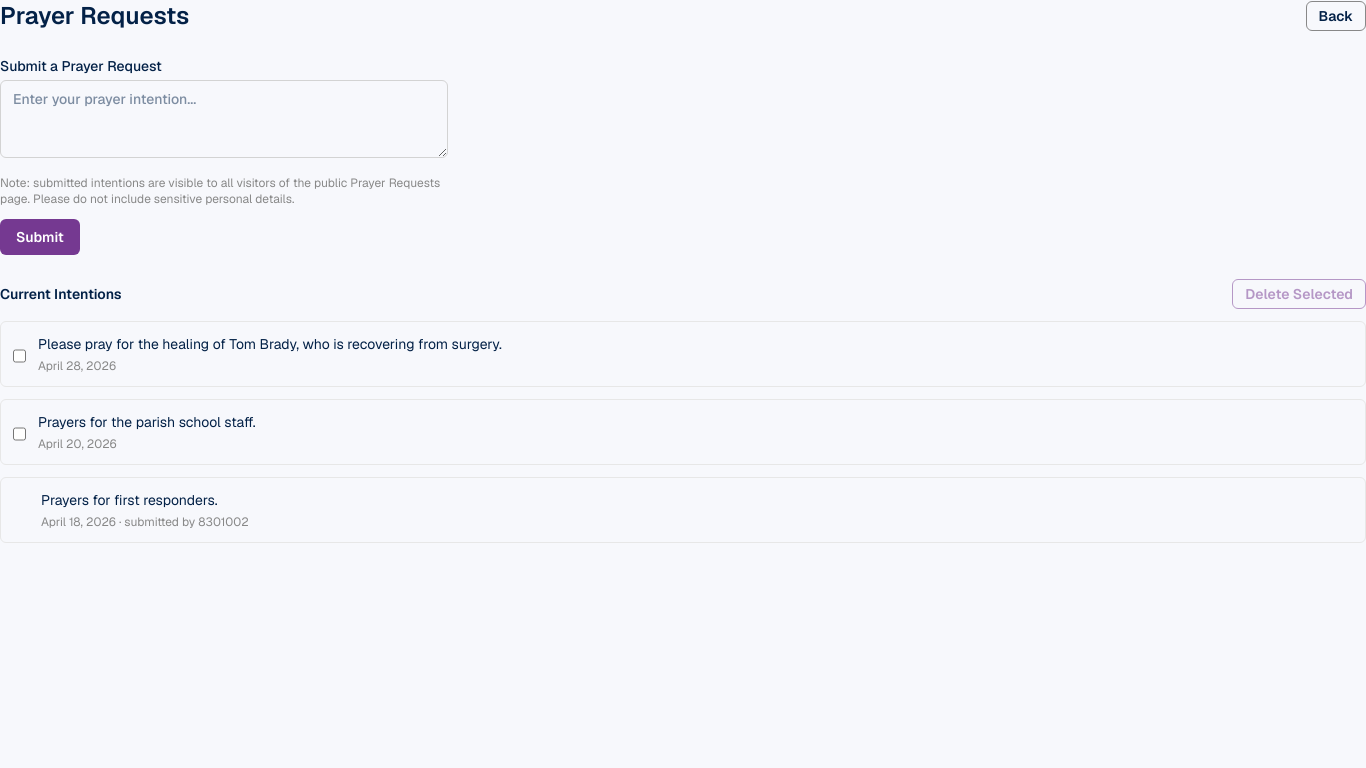
PrayerRequests › deletes selected requests on confirm and shows success modal
The image size is (1366, 768).
Expected: the text "Tom Brady" is shown, [38,335,502,353]
Click the checkbox named "Select prayer request pr-001". click: [20, 356]
box: [13,338,26,374]
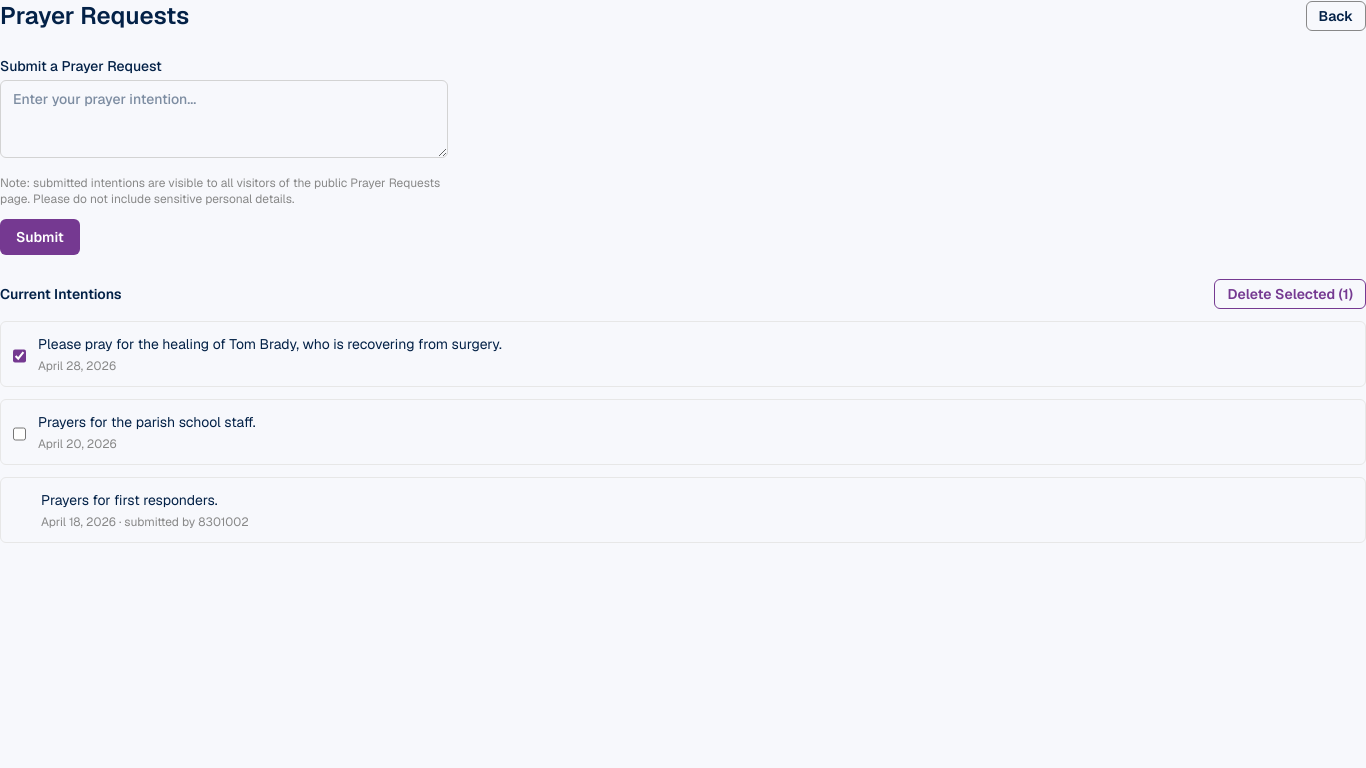
Click the checkbox named "Select prayer request pr-002". click: [20, 434]
box: [13,416,26,452]
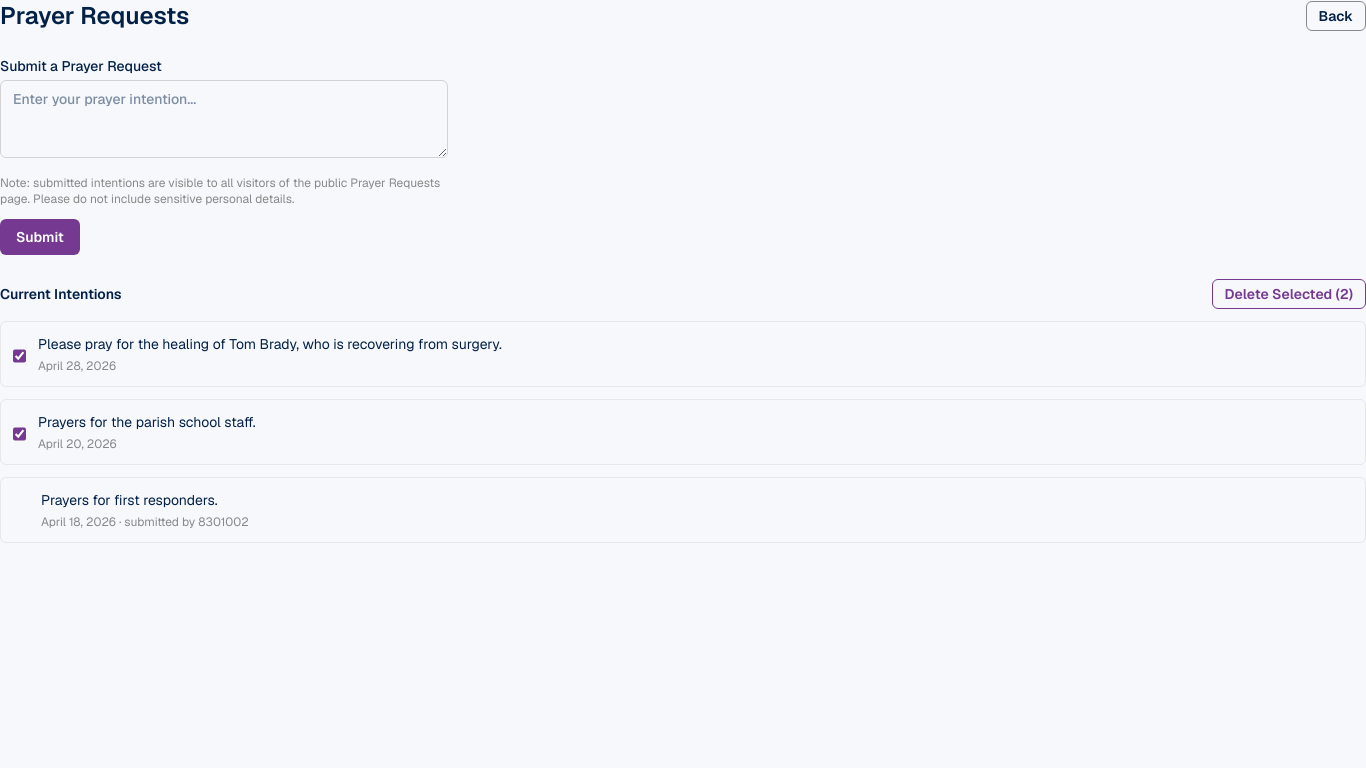
Click the button "Delete Selected (2)". click: [1289, 294]
box: [1212,279,1365,309]
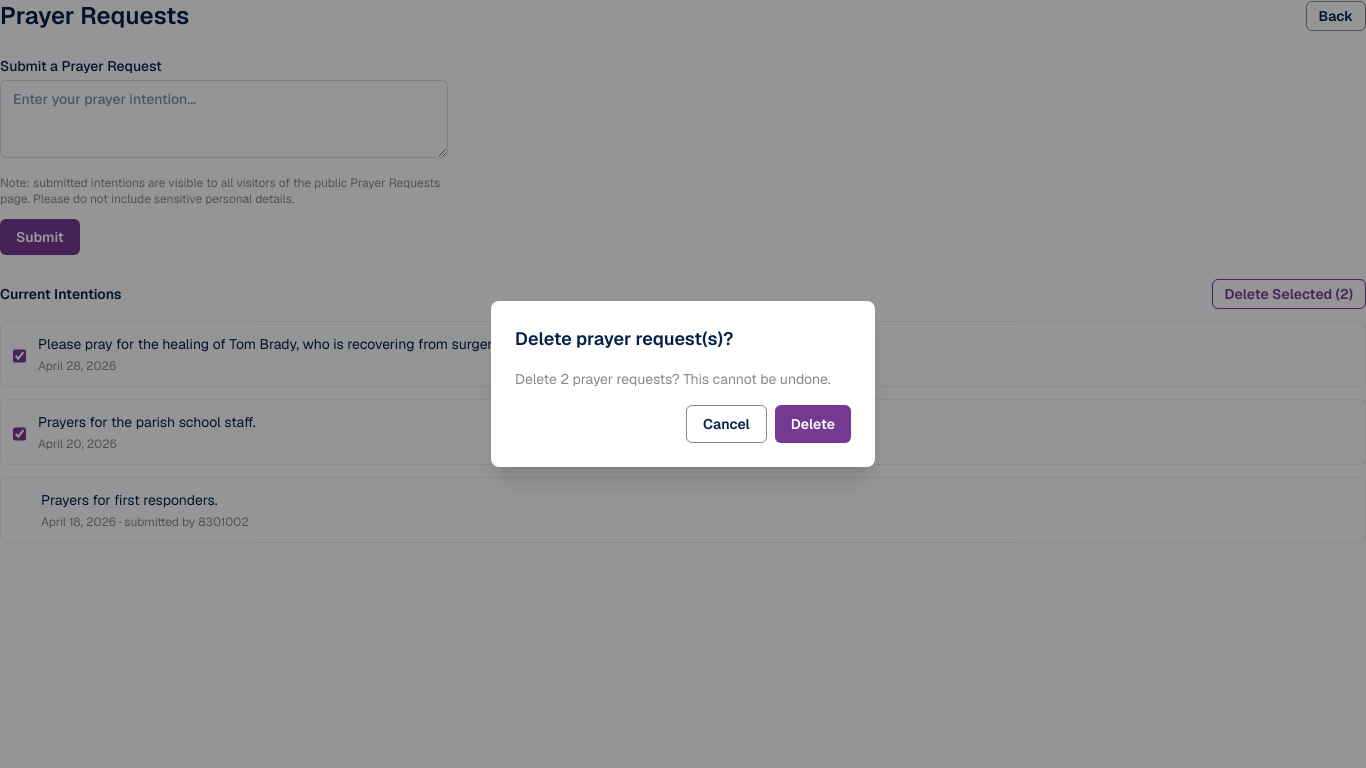
Click the button "Delete". click: [813, 424]
box: [775,405,851,443]
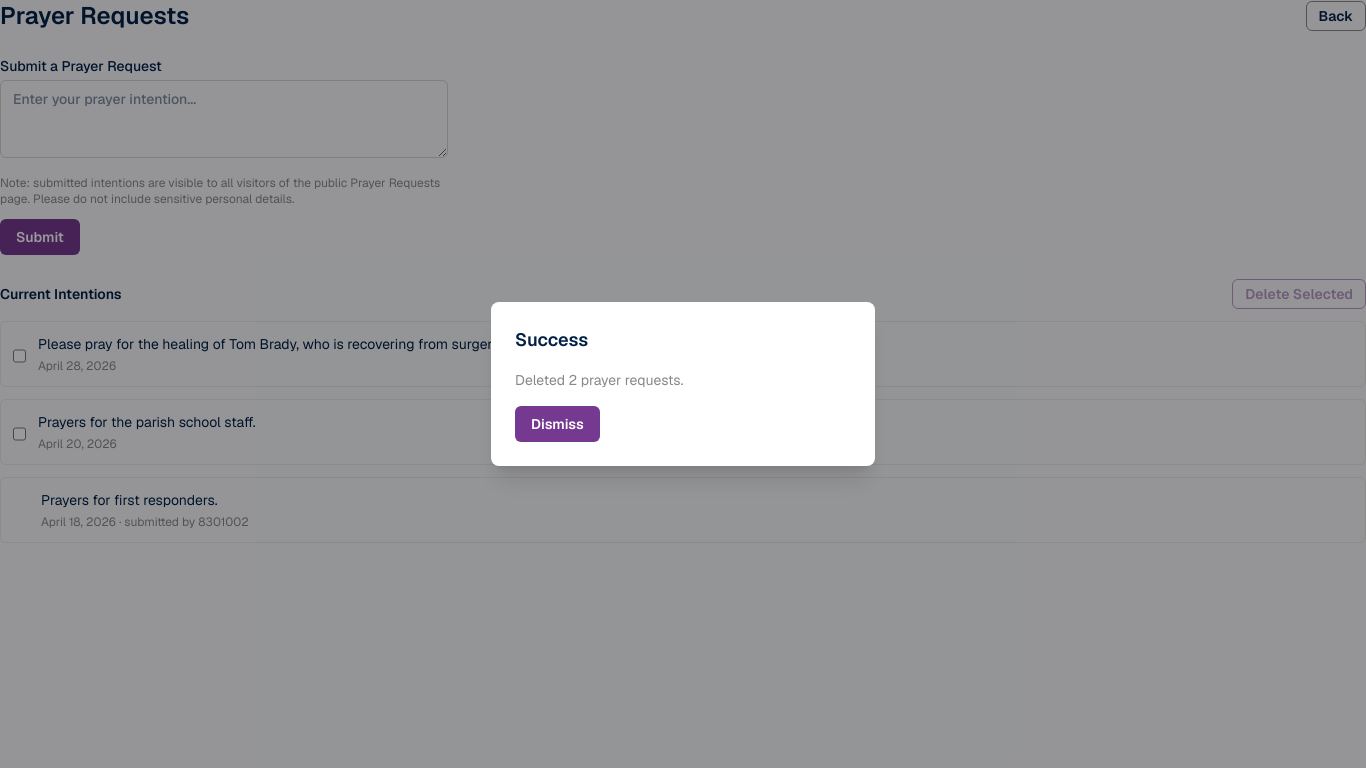
Result: the text "Deleted 2 prayer requests." is shown at [515,371,683,389]
